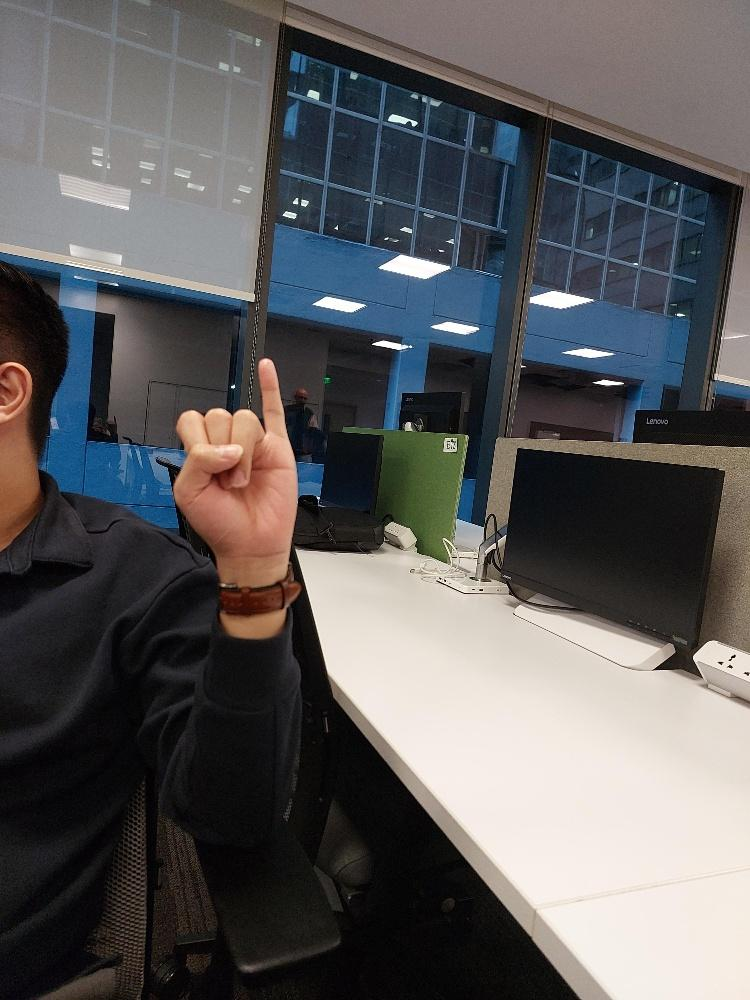i: (171, 357, 298, 548)
